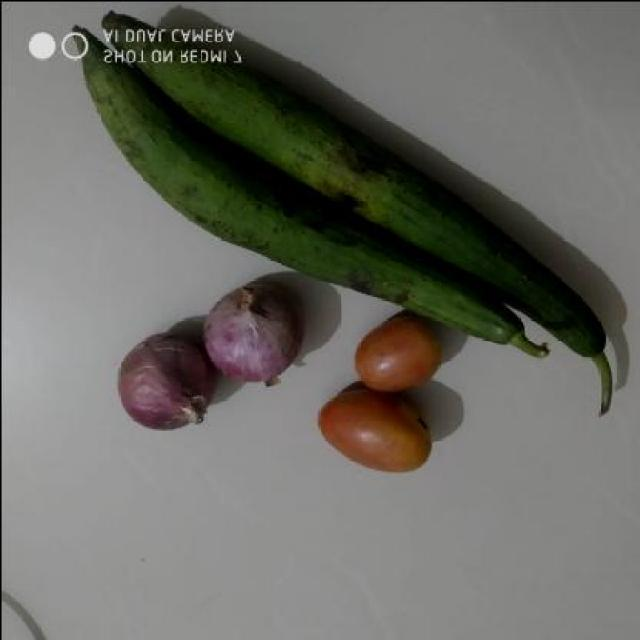Onion: (109, 328, 223, 438), (205, 278, 306, 394)
Sponge Gourd: (41, 65, 598, 278)
Tomato: (306, 385, 439, 483), (348, 314, 452, 396)
